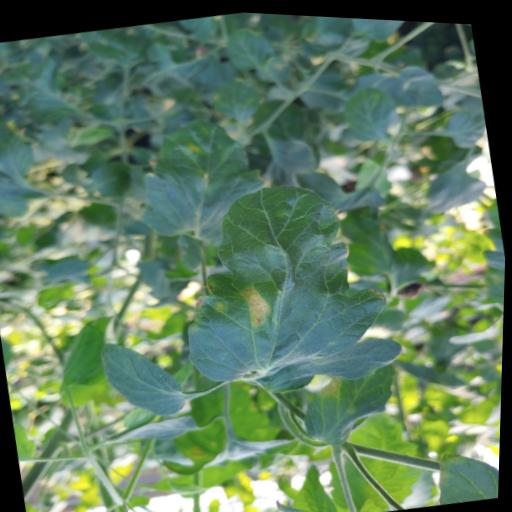Healthy: (98, 326, 193, 424)
Leaf Mold: (159, 159, 415, 409), (126, 102, 278, 255), (296, 353, 409, 444)
